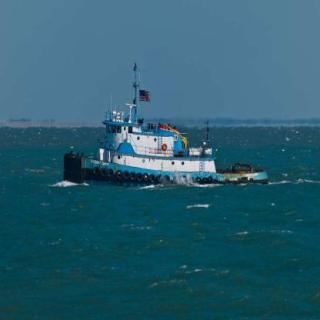Tug Boat: (61, 62, 248, 185)
